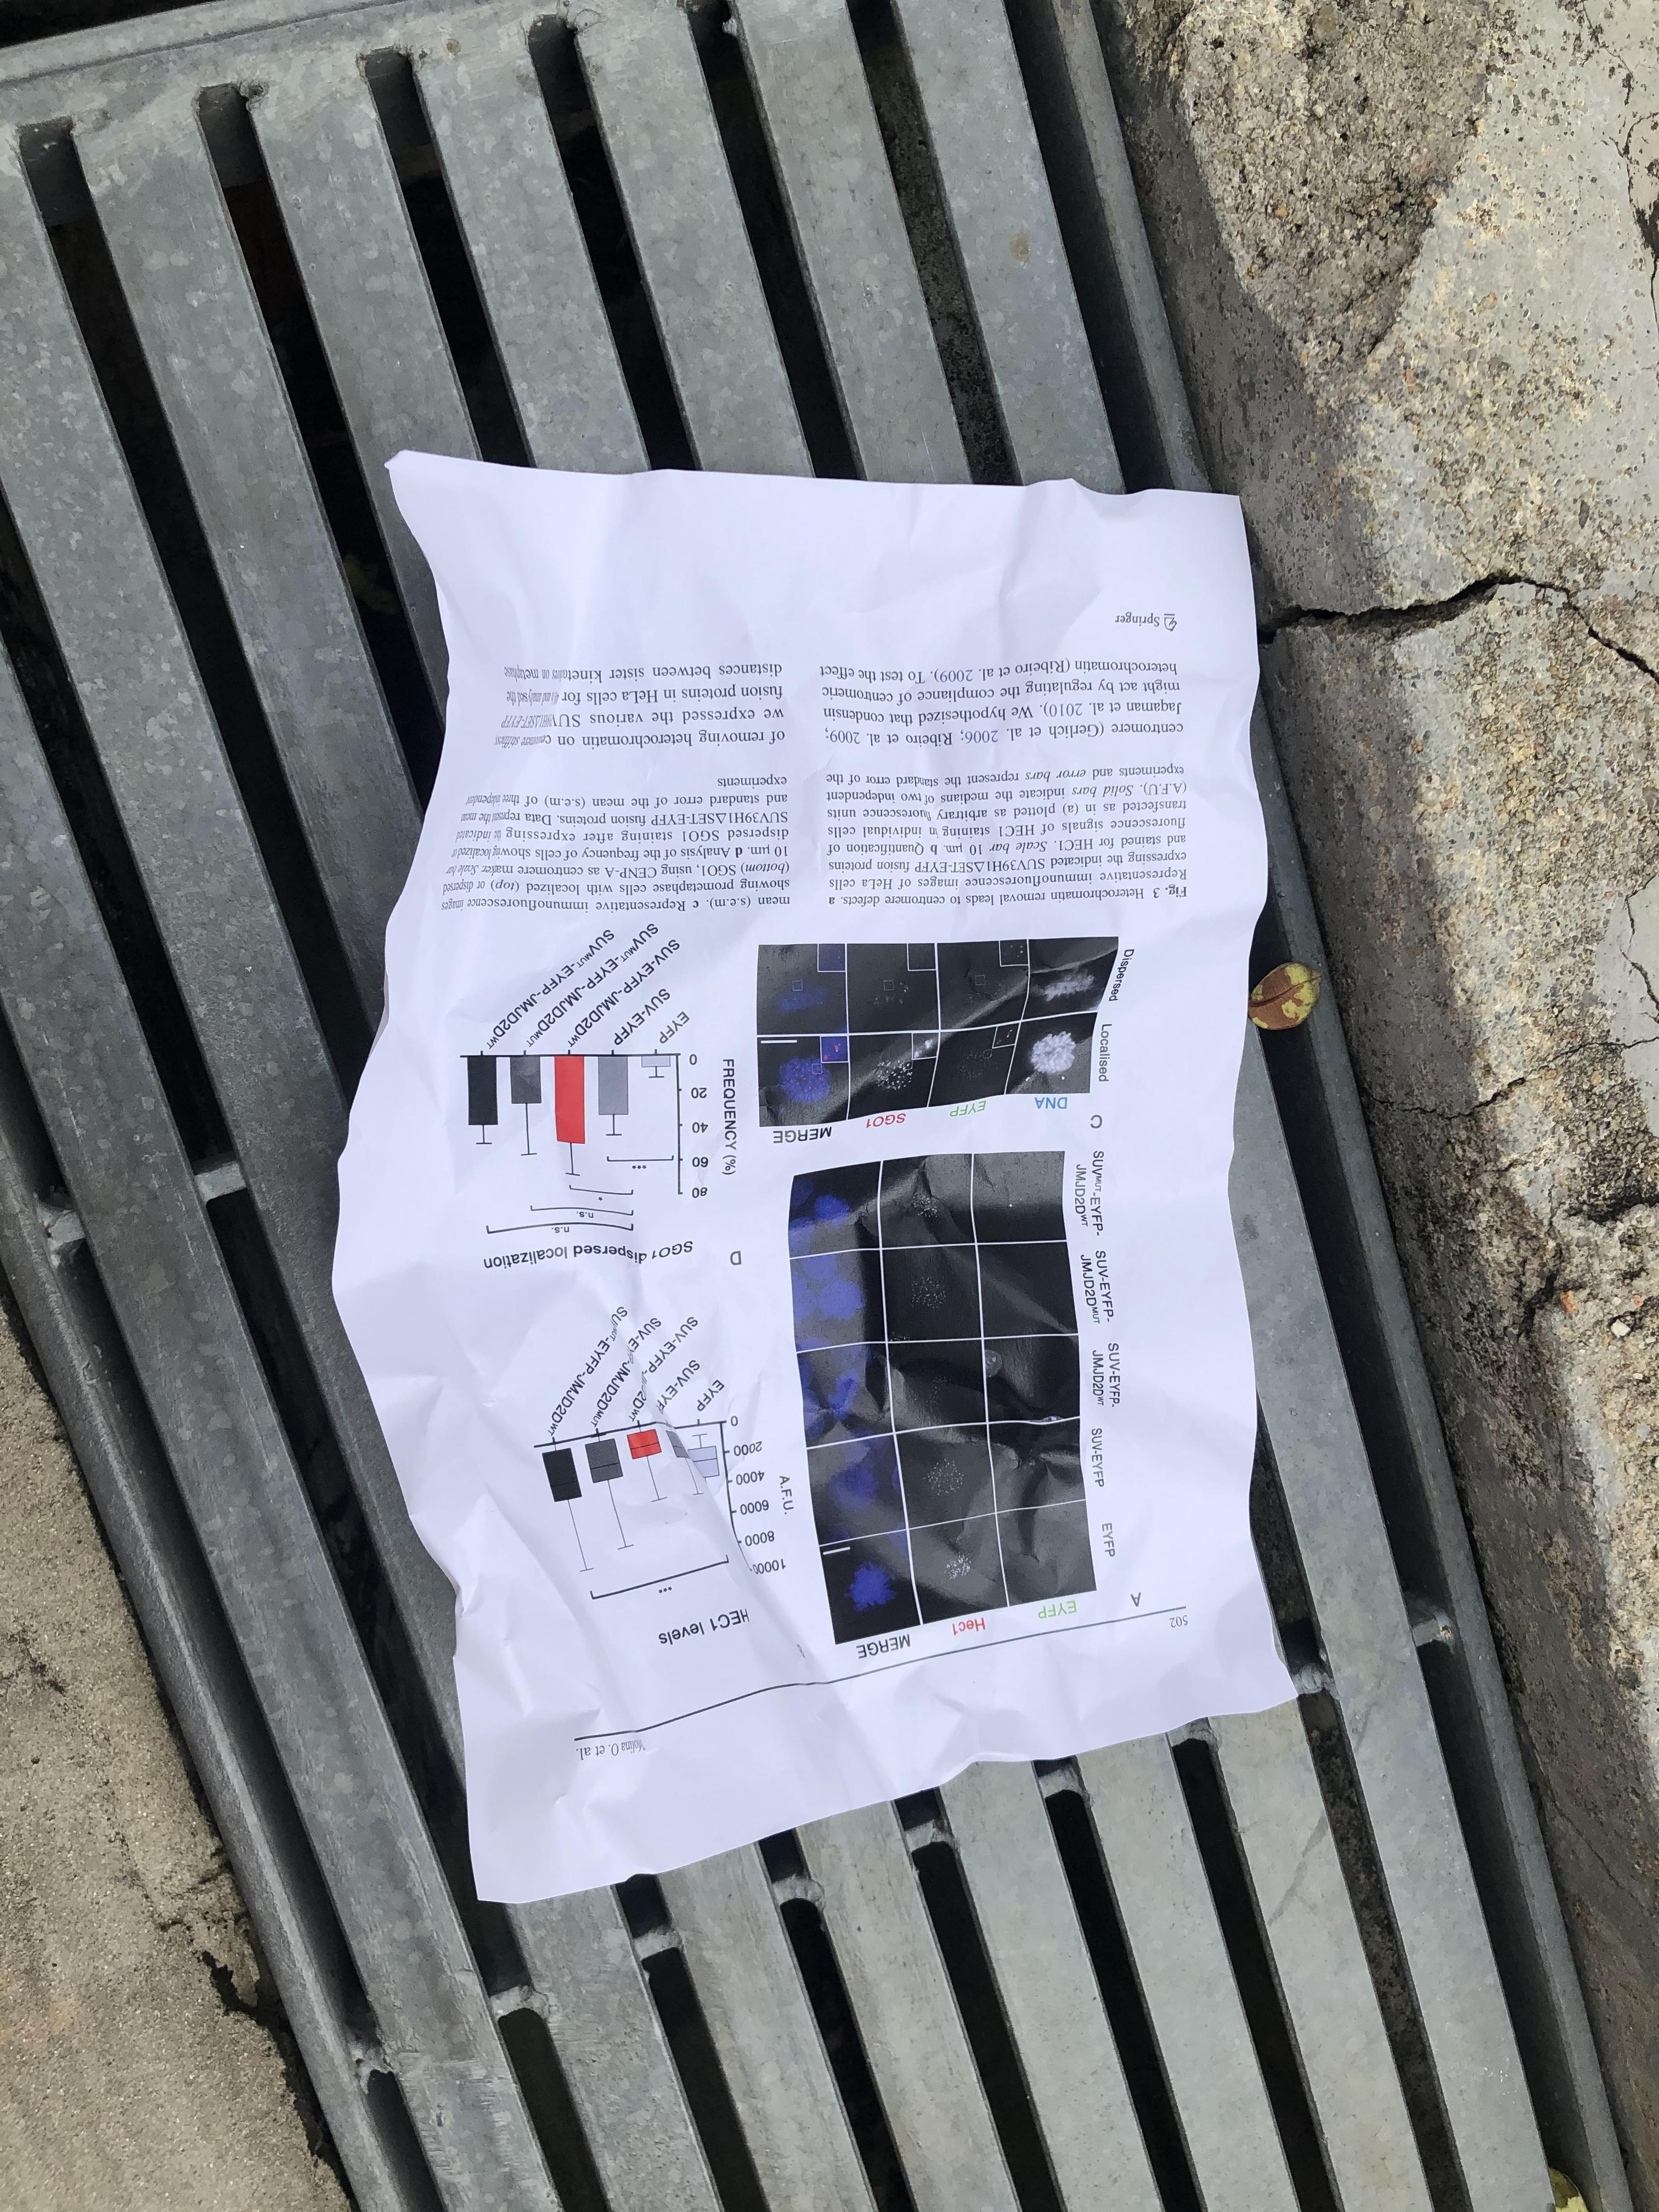paper: (242, 340, 1466, 1959)
